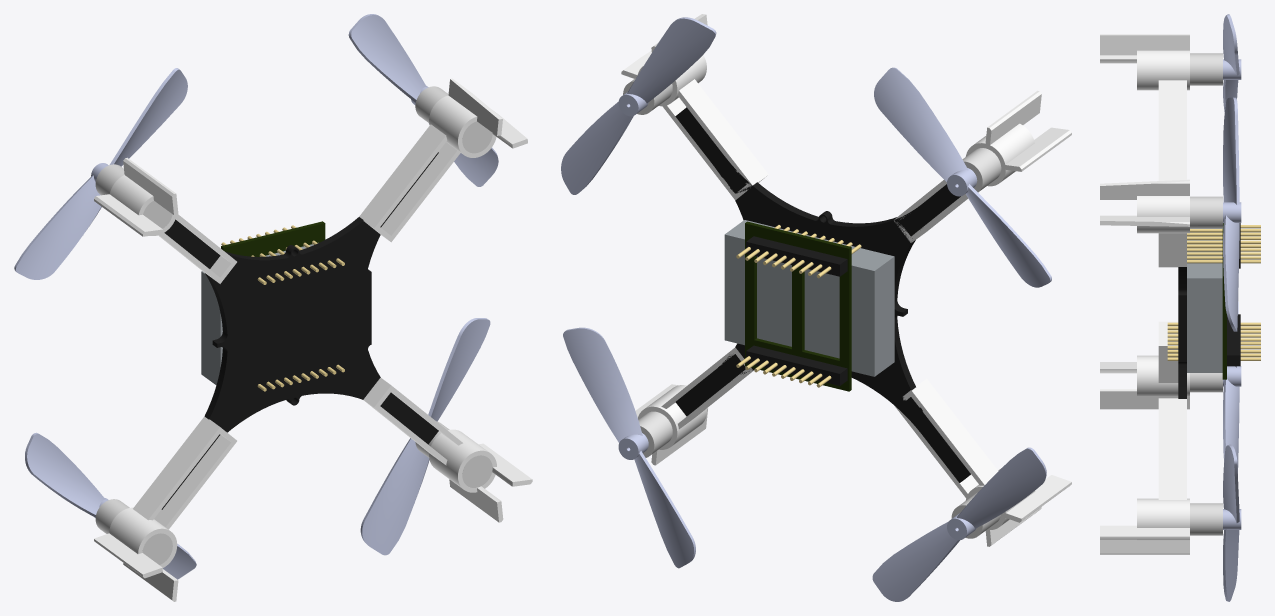
The model's file is crazyflie2.dae.
3 renders of one model, left to right at view 1: azimuth 30°, elevation 25°; view 2: azimuth 150°, elevation 25°; view 3: azimuth 270°, elevation 25°, orthographic. The views are drawn at different scales.
Visible parts, largest first — view 1: pcb, MotorMountsSlanted (×7), Propeller_mockup (×4), Motors2 (×4), Part1, Part3; view 2: Propeller_mockup (×4), MotorMountsSlanted (×7), Part1, pcb, Part3, Part5 (×2), Motors2 (×2); view 3: MotorMountsSlanted (×7), Propeller_mockup (×4), Part1, Motors2 (×4), pcb, Part5, Part3, Part2.
Boxes of the visible parts, x1,y1,x2,y2 form: pcb: (161, 152, 438, 509); MotorMountsSlanted (×7): (94, 78, 532, 601); Propeller_mockup (×4): (14, 14, 498, 579); Motors2 (×4): (95, 86, 492, 564); Part1: (201, 242, 318, 385); Part3: (221, 221, 325, 256); Propeller_mockup (×4): (561, 17, 1051, 601); MotorMountsSlanted (×7): (621, 14, 1071, 546); Part1: (724, 220, 894, 376); pcb: (675, 107, 970, 482); Part3: (745, 221, 851, 391); Part5 (×2): (746, 236, 847, 385); Motors2 (×2): (638, 148, 1001, 457); MotorMountsSlanted (×7): (1100, 34, 1189, 554); Propeller_mockup (×4): (1223, 14, 1241, 601); Part1: (1187, 228, 1222, 372); Motors2 (×4): (1190, 53, 1222, 535); pcb: (1178, 267, 1186, 398); Part5: (1227, 314, 1240, 366); Part3: (1222, 223, 1226, 379); Part2: (1187, 232, 1260, 236).
Size of the model in its own units: 97.98 by 31.02 by 106.
